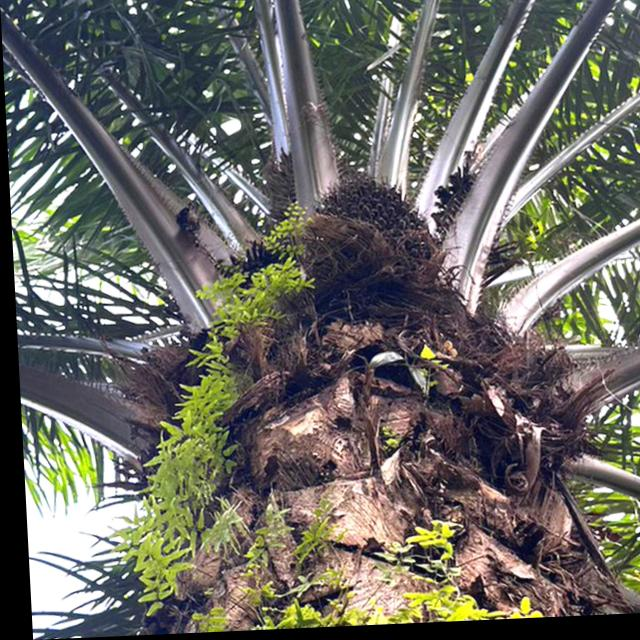almost: (290, 165, 442, 300)
